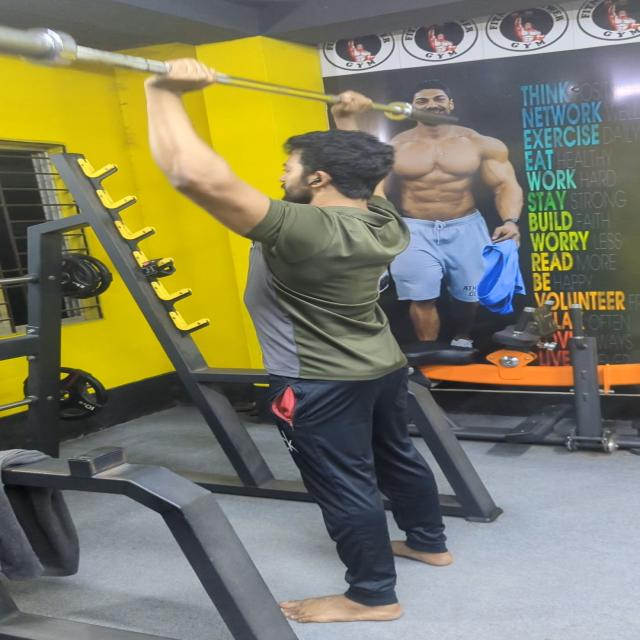Normal_OverheadPress: (132, 23, 462, 628)
